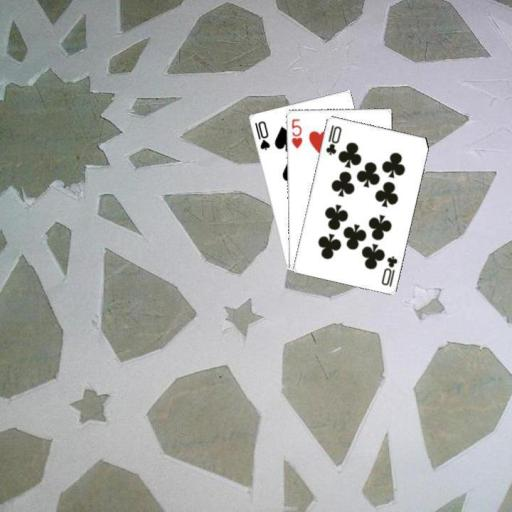card-corner: (378, 252, 399, 288), (322, 122, 343, 156), (251, 118, 271, 152), (288, 116, 303, 150)
